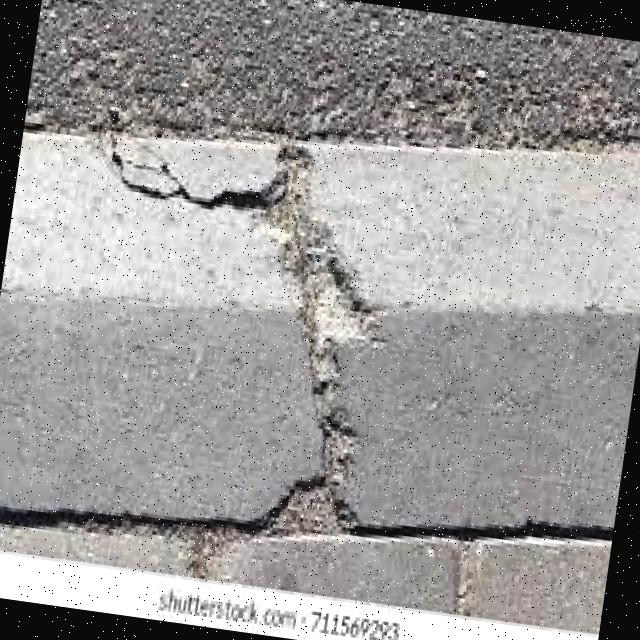curb: (1, 132, 640, 535)
